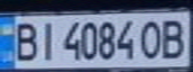0: (78, 18, 100, 61)
4: (115, 17, 139, 60), (60, 18, 81, 61)
8: (97, 18, 118, 61)
B: (6, 19, 42, 62), (157, 16, 190, 60)
I: (36, 19, 60, 61)
O: (136, 17, 166, 60)
